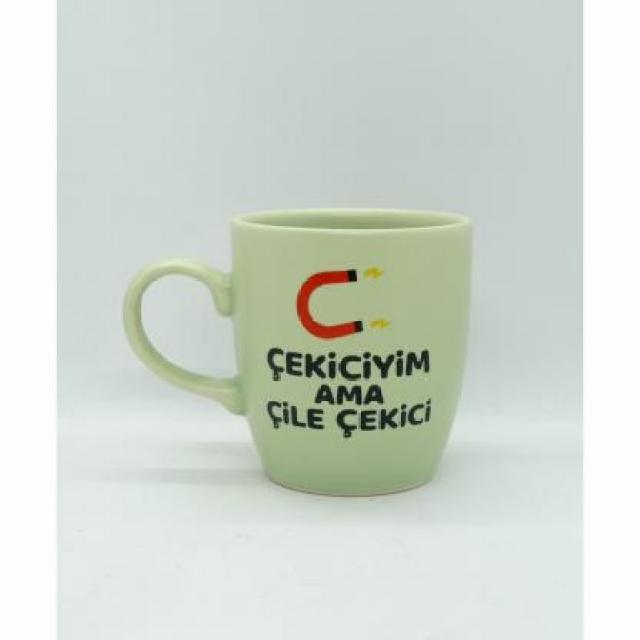taza: (116, 197, 482, 502)
